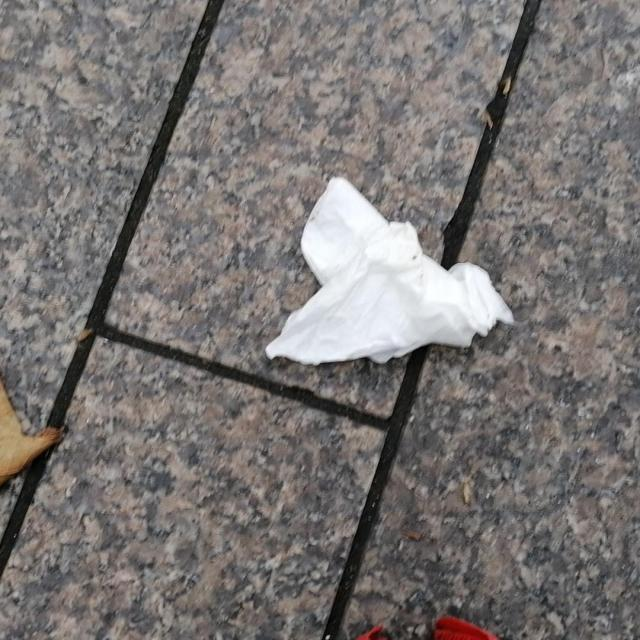Paper: (264, 176, 514, 370)
